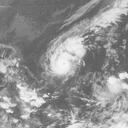cyclone: (44, 35, 87, 78)
